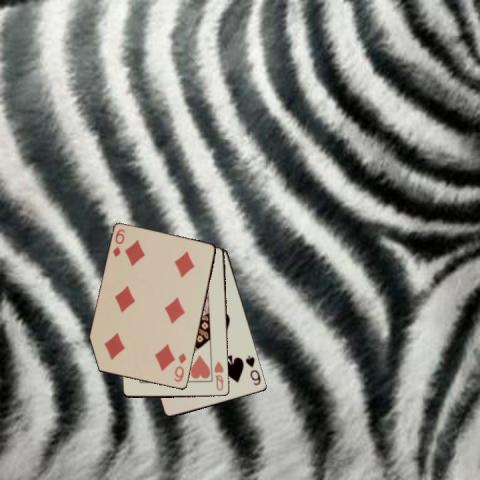6d: (171, 350, 188, 383), (110, 226, 127, 259)
6s: (242, 352, 262, 386)
Qh: (212, 359, 226, 392)
